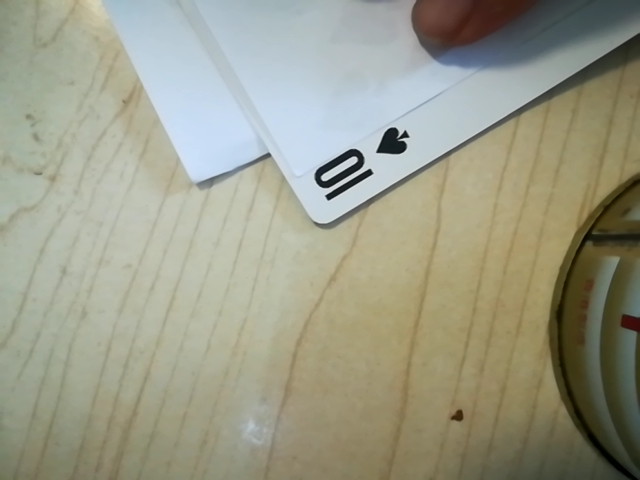ht 10: (300, 113, 427, 218)
